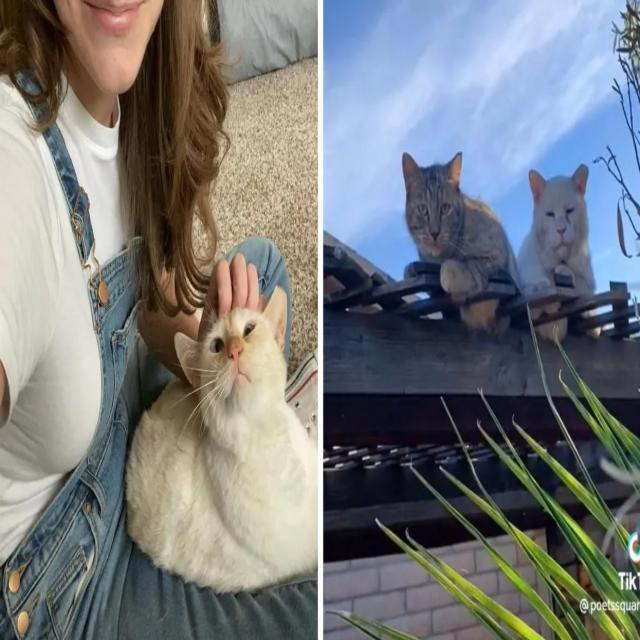cat: (128, 289, 318, 591), (402, 153, 519, 296), (518, 165, 595, 296), (460, 298, 499, 330), (536, 318, 568, 340), (531, 300, 560, 320)
